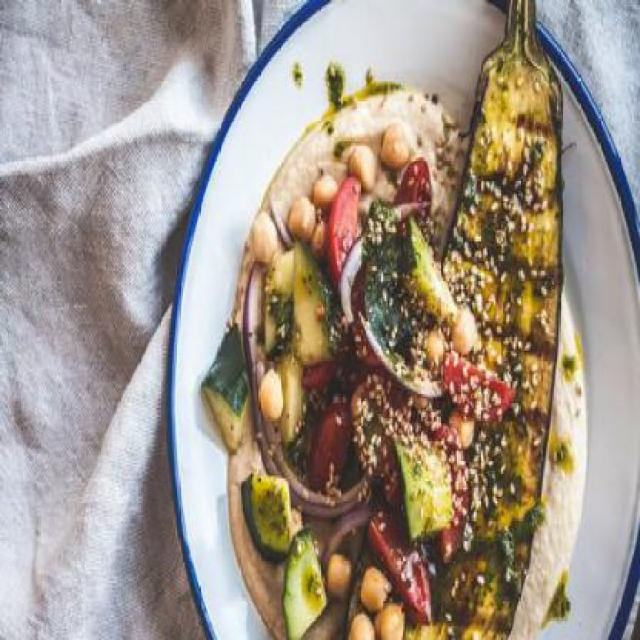eggplant: (428, 2, 550, 638)
greek salad: (200, 179, 488, 638)
hummus: (227, 70, 591, 638)
